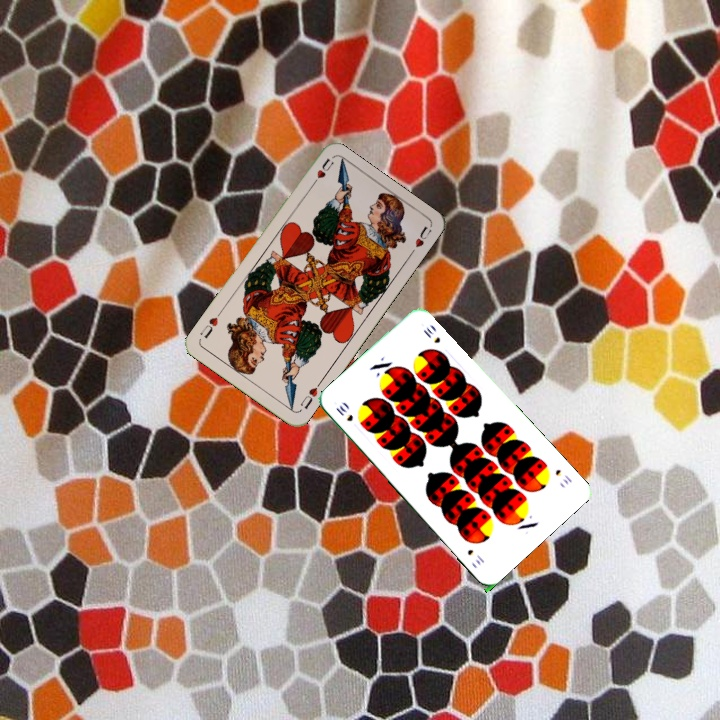HU: (306, 154, 336, 190), (296, 378, 324, 412)
S10: (332, 401, 356, 424), (551, 465, 575, 487)
